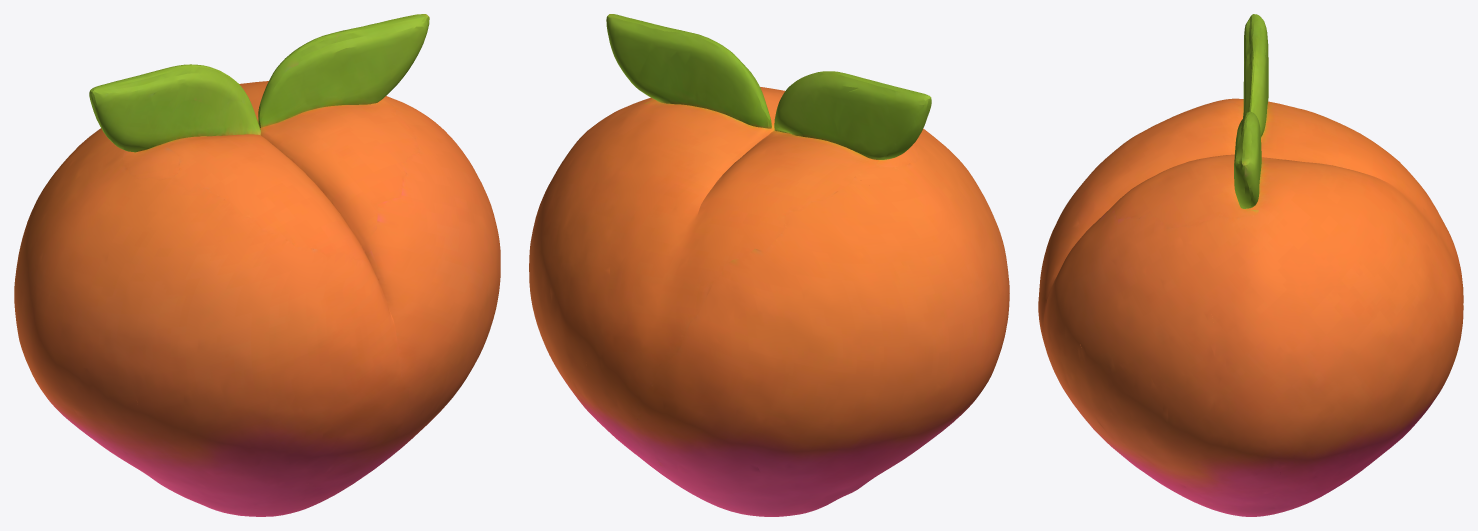
The model's file is peach.glb.
3 views of the same model, side by side, from view 1: azimuth 30°, elevation 25°; view 2: azimuth 150°, elevation 25°; view 3: azimuth 270°, elevation 25° (orthographic). The views are drawn at different scales.
Visible parts, largest first — view 1: model; view 2: model; view 3: model.
Part boxes in pixels (left/top/right/bottom): model: left=14, top=14, right=500, bottom=516; model: left=529, top=14, right=1009, bottom=516; model: left=1038, top=14, right=1463, bottom=516.
Bounding box in the file's own units: 1 × 0.9827 × 0.8988.
Materials: 1 (1 with a texture image).
